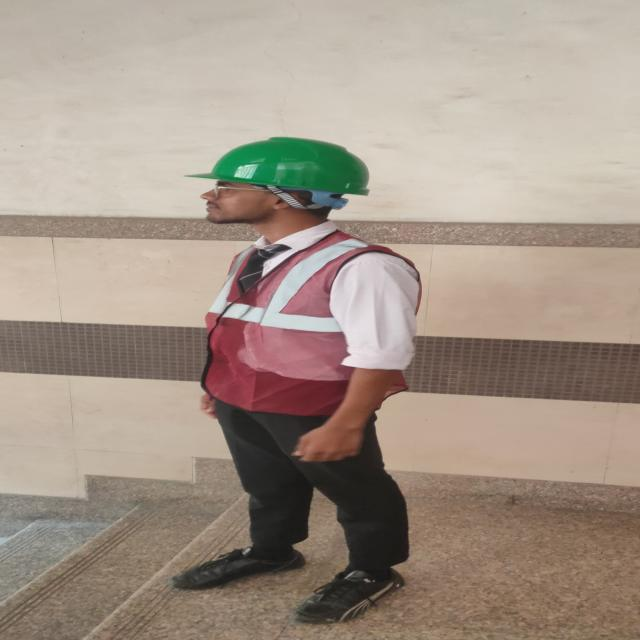safe: (192, 137, 422, 621)
